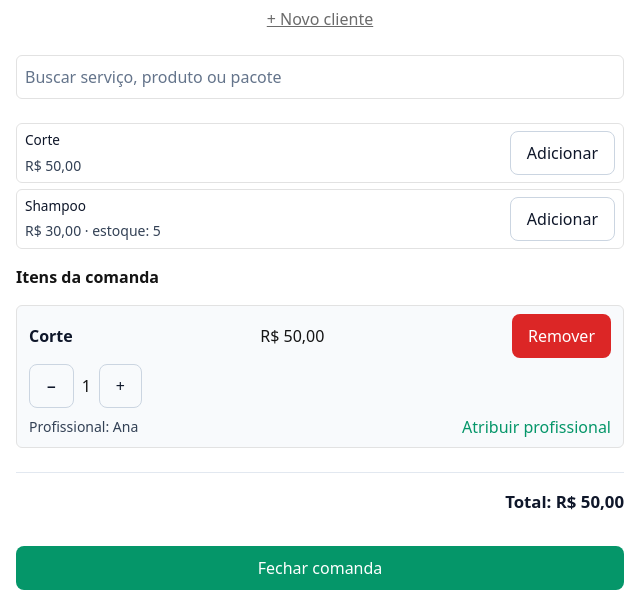
Test: ComandaPage › marks the source appointment as completed with Idempotency-Key and version after closing
(page scrolled)
Click the button "Fechar comanda".
click(320, 568)  # box [16,546,624,590]
(page scrolled)
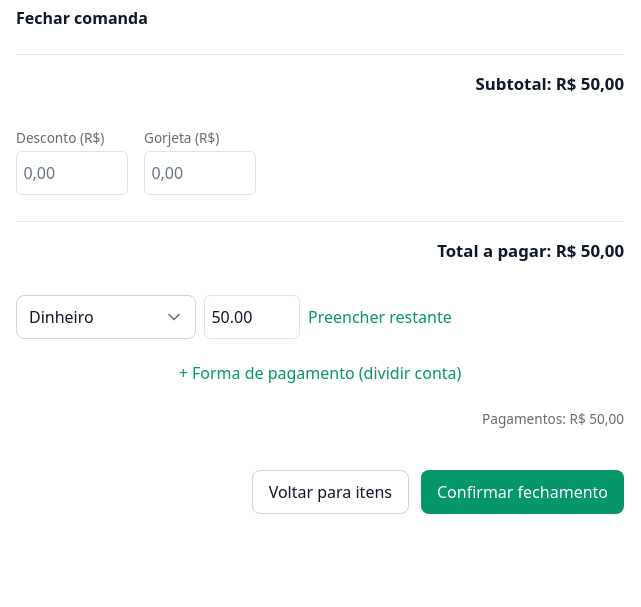
Click the button "Confirmar fechamento".
click(522, 492)  # box [421,470,624,514]
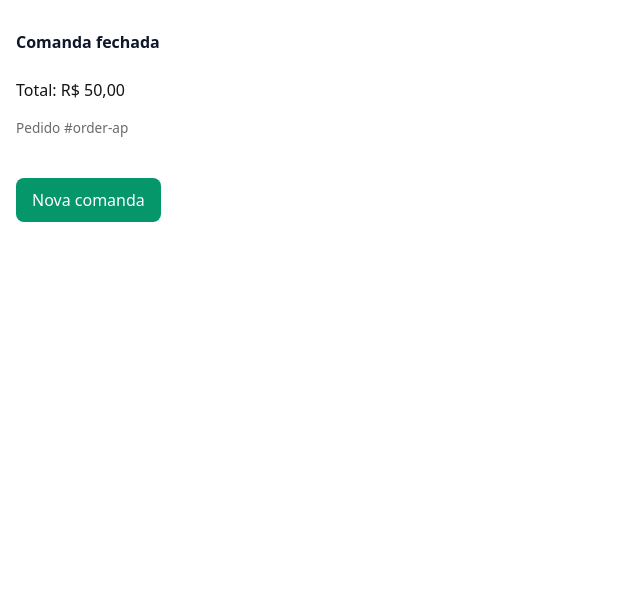
Expected: the heading "Comanda fechada" is shown, [16,30,160,54]
